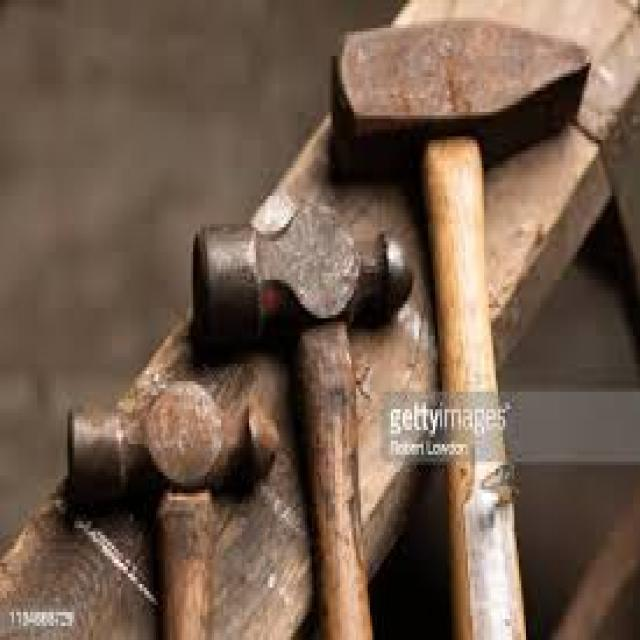hammer: (326, 12, 594, 638), (191, 203, 421, 640), (62, 367, 286, 640)
